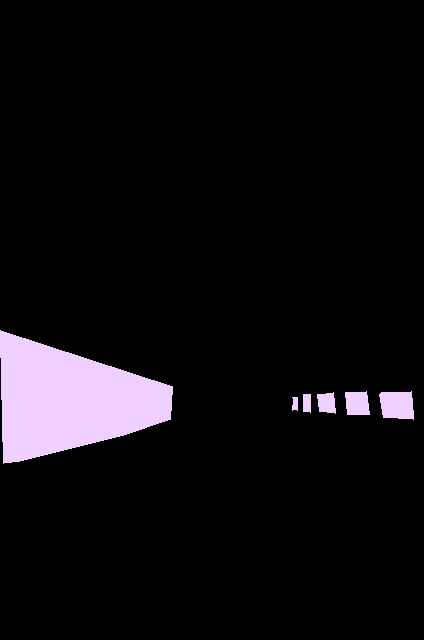Train: (0, 330, 172, 464), (292, 391, 414, 419)
